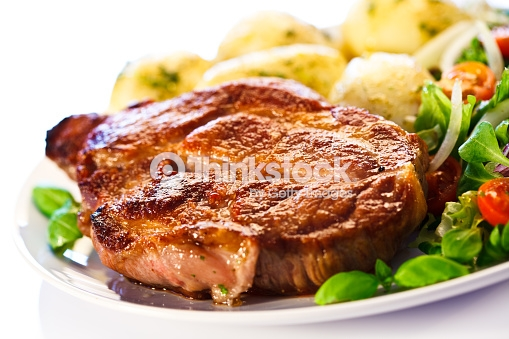boiled potatoes: (263, 19, 406, 100)
